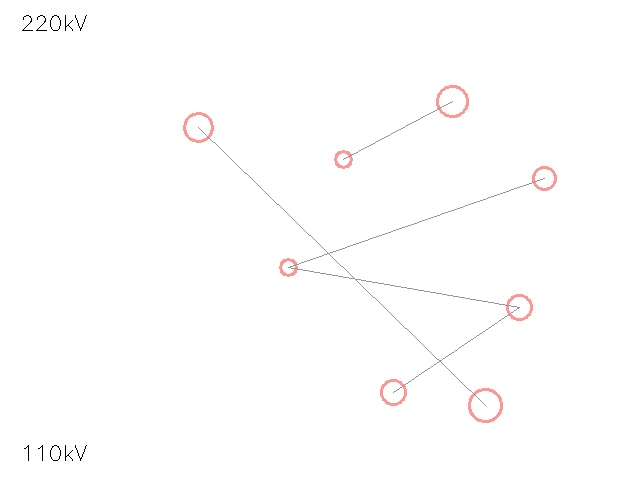current_transformer: (368, 367, 418, 417), (272, 251, 304, 283)
feeder_terminal: (521, 155, 567, 201)
fuse: (452, 372, 518, 438)
reactor: (170, 99, 226, 155), (495, 283, 543, 331)
voltage_transformer: (422, 71, 482, 131), (327, 143, 359, 175)
